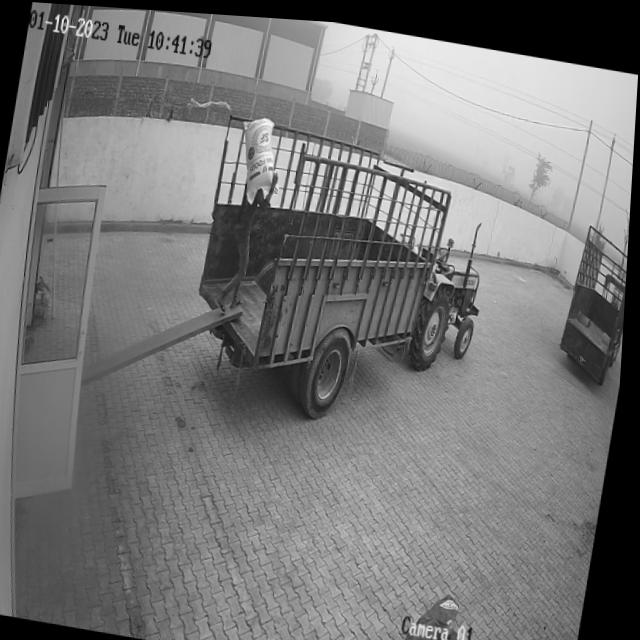sack: (232, 110, 285, 202)
